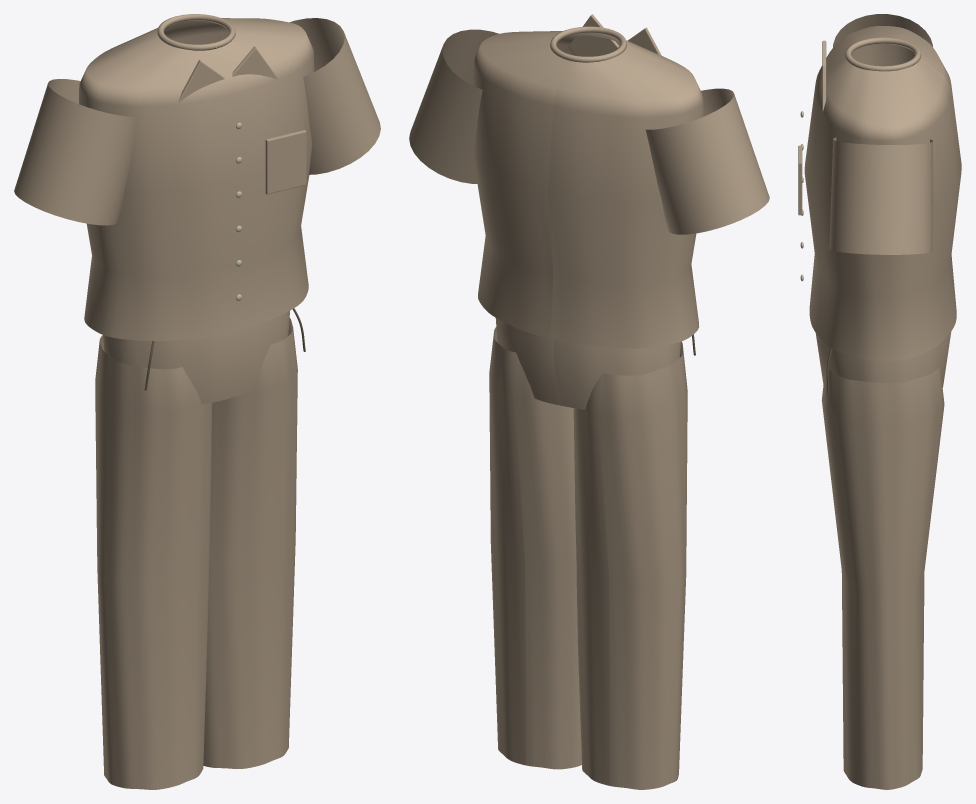
Rendered from ensemble-meridien-homme.glb.
The picture shows the model from 3 angles, left to right: view 1: azimuth 30°, elevation 25°; view 2: azimuth 150°, elevation 25°; view 3: azimuth 270°, elevation 25°; orthographic projection. The views are drawn at different scales.
Visible parts, largest first — view 1: edit-19, short-sleeve (×2); view 2: edit-19, short-sleeve (×2); view 3: edit-19, short-sleeve (×2).
Part boxes in pixels (bbox=[...]): edit-19: bbox=[79, 14, 314, 789]; short-sleeve (×2): bbox=[14, 18, 380, 225]; edit-19: bbox=[473, 14, 703, 789]; short-sleeve (×2): bbox=[409, 29, 769, 234]; edit-19: bbox=[798, 26, 961, 789]; short-sleeve (×2): bbox=[829, 14, 932, 254].
Bounding box in the file's own units: 0.7063 × 1.41 × 0.2985.
